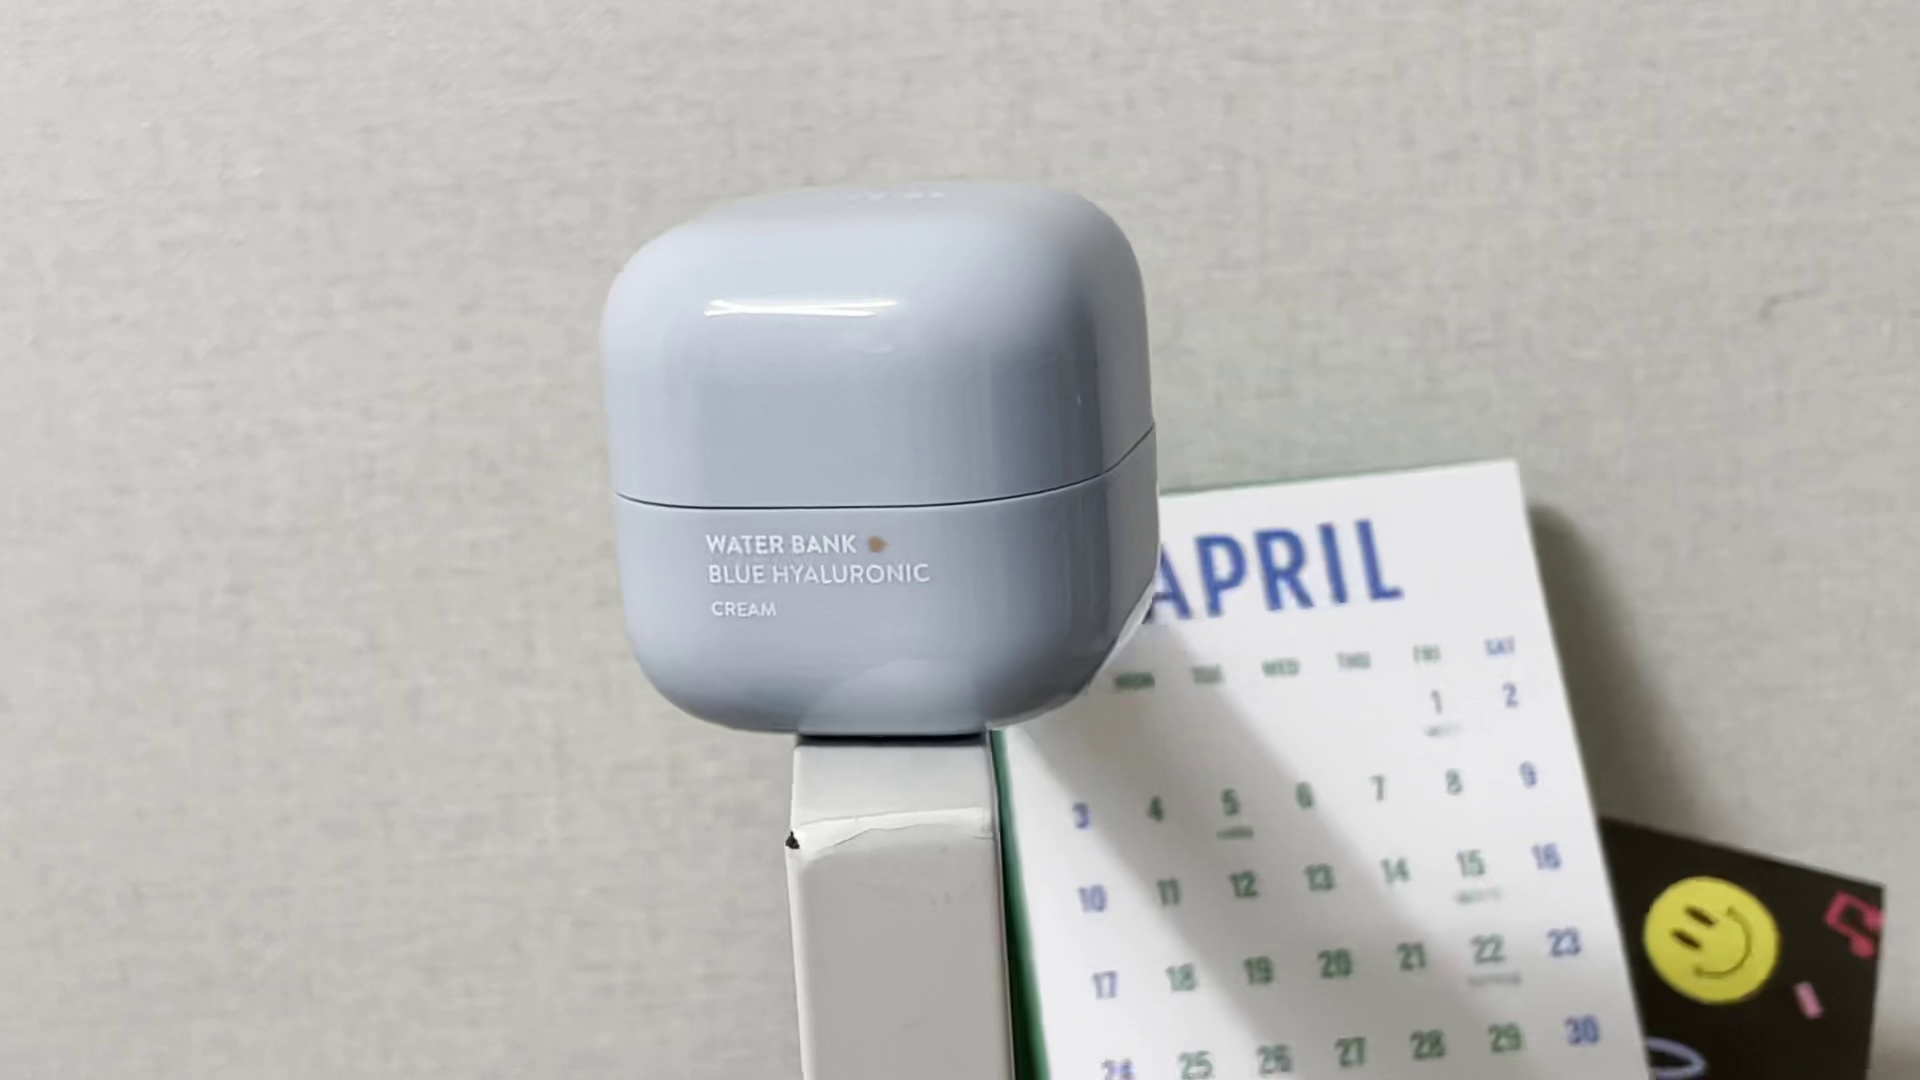cream: (608, 179, 1164, 742)
